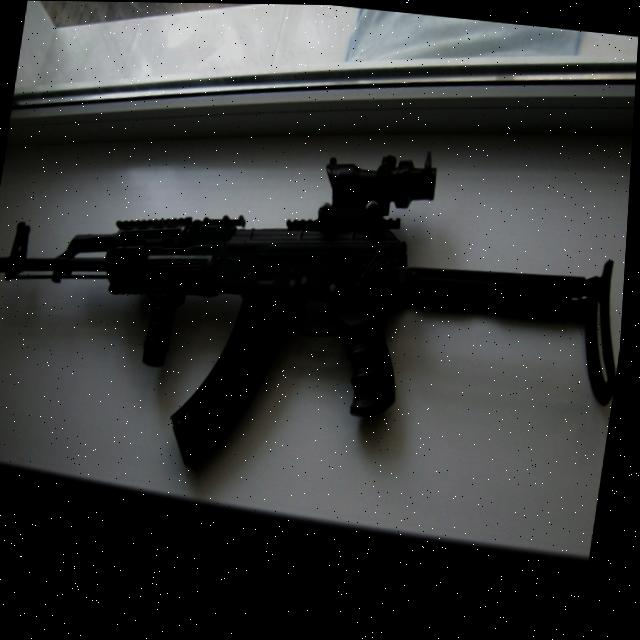firearm: (0, 115, 635, 508)
